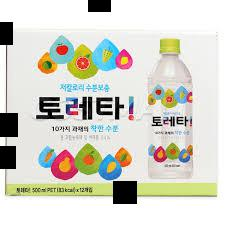toreta: (144, 36, 197, 180)
